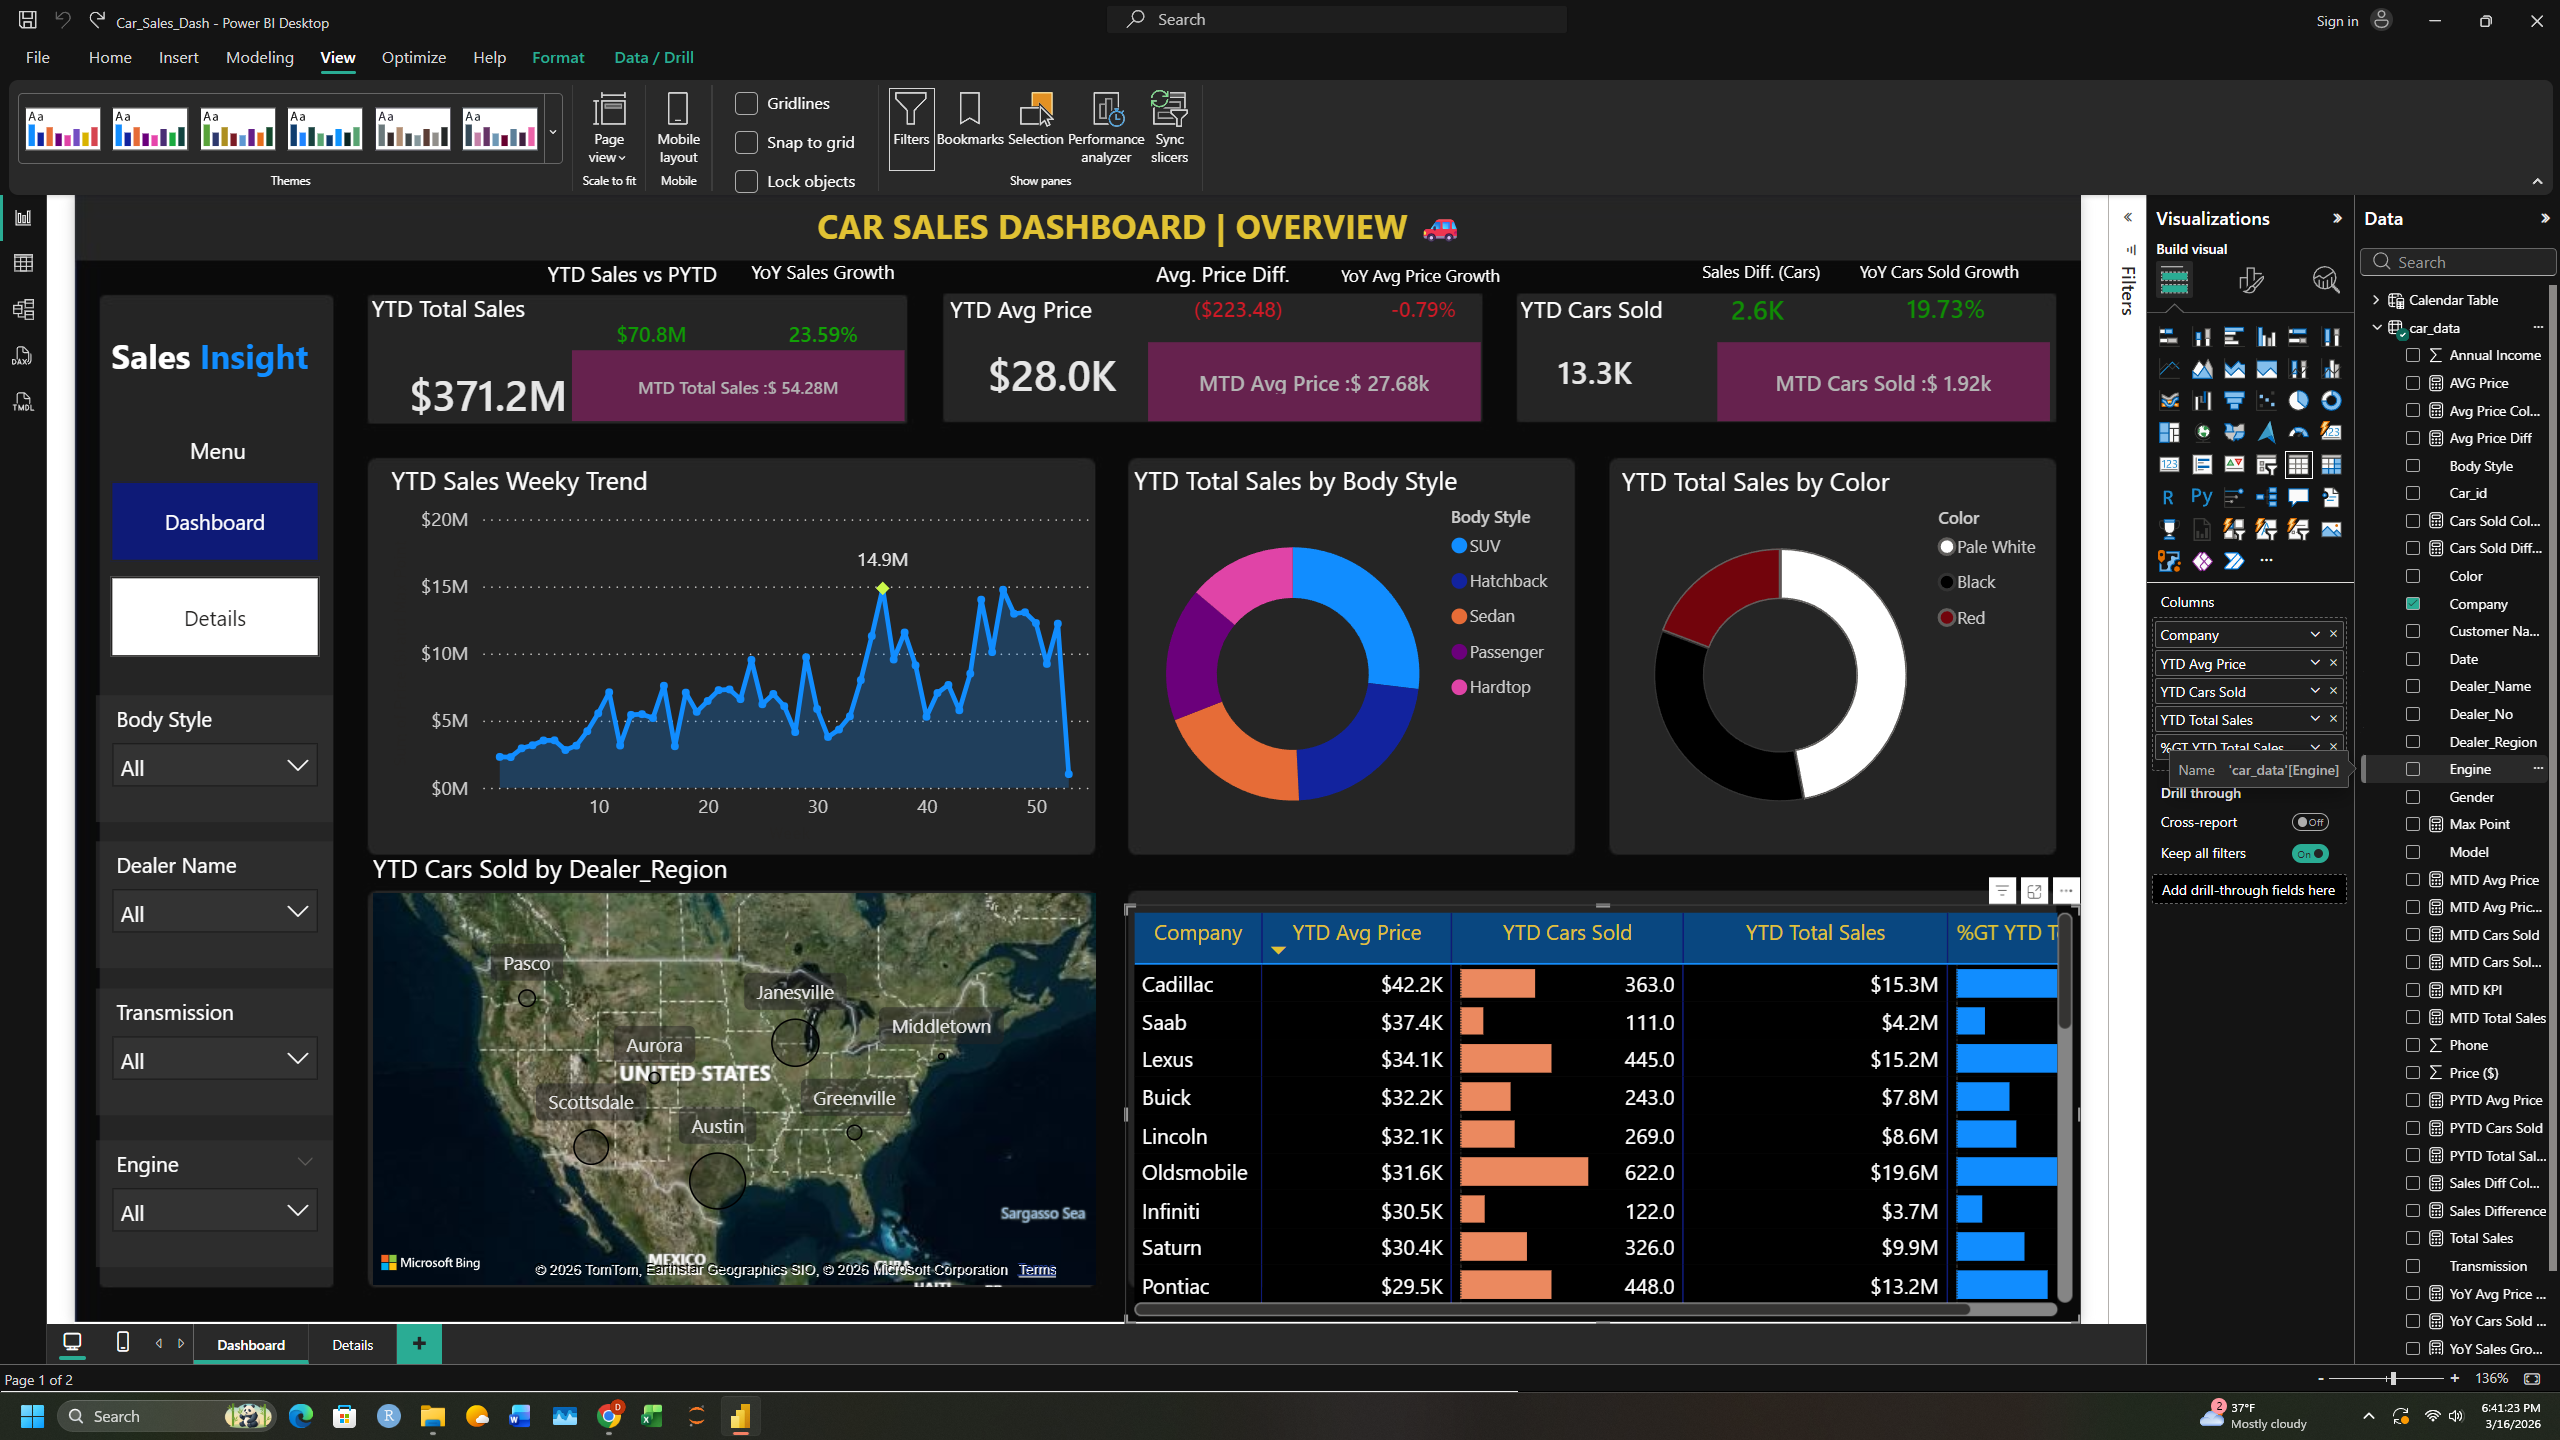

The dashboard page shown, as its layout file describes it:
{"tool":"powerbi","page":{"name":"Dashboard","canvas":[1280,720],"ordinal":0},"visuals":[{"type":"cardVisual","title":"YTD Total Sales","fields":{"Data":["car_data.YTD Total Sales"]},"box":[185,62,161,109],"z":0},{"type":"cardVisual","fields":{"Data":["car_data.Sales Difference"]},"box":[317,61,110,52],"z":1000},{"type":"cardVisual","fields":{"Data":["car_data.MTD KPI"]},"box":[318,99,212,45],"z":2000},{"type":"cardVisual","fields":{"Data":["car_data.YoY Sales Growth"]},"box":[427,62,110,49],"z":3000},{"type":"cardVisual","title":"YTD Avg Price ","fields":{"Data":["car_data.YTD Avg Price"]},"box":[554,63,149,81],"z":4000},{"type":"cardVisual","fields":{"Data":["car_data.Avg Price Diff"]},"box":[682,43,121,56],"z":5000},{"type":"cardVisual","fields":{"Data":["car_data.YoY Avg Price Growth"]},"box":[803,43,115,56],"z":6000},{"type":"cardVisual","fields":{"Data":["car_data.MTD Avg Price KPI"]},"box":[685,94,212,50],"z":7000},{"type":"textbox","box":[427,34,127,29],"z":8000},{"type":"cardVisual","title":"YTD Cars Sold","fields":{"Data":["car_data.YTD Cars Sold"]},"box":[918,63,106,78],"z":9000},{"type":"cardVisual","fields":{"Data":["car_data.Cars Sold Difference"]},"box":[1024,45,100,52],"z":10000},{"type":"textbox","box":[1034,15,100,48],"z":11000},{"type":"textbox","box":[685,35,127,29],"z":12000},{"type":"textbox","box":[803,35,116,29],"z":13000},{"type":"textbox","box":[297,35,127,29],"z":14000},{"type":"cardVisual","fields":{"Data":["car_data.YoY Cars Sold Growth"]},"box":[1134,45,120,52],"z":15000},{"type":"textbox","box":[1134,15,126,49],"z":16000},{"type":"cardVisual","fields":{"Data":["car_data.MTD Cars Sold KPI"]},"box":[1048,94,212,50],"z":17000},{"type":"areaChart","title":"YTD Sales Weeky Trend ","fields":{"Category":["Calendar Table.Week"],"Y":["Sum(car_data.Price ($))","car_data.Max Point"]},"box":[197,171,459,247],"z":18000},{"type":"donutChart","fields":{"Category":["car_data.Body Style"],"Y":["car_data.YTD Total Sales"]},"box":[671,171,283,247],"z":19000},{"type":"donutChart","fields":{"Y":["car_data.YTD Total Sales"],"Category":["car_data.Color"]},"box":[982,172,283,247],"z":20000},{"type":"map","fields":{"Category":["car_data.Dealer_Region"],"Size":["car_data.YTD Cars Sold"]},"box":[185.4,417.9,470.7,282.9],"z":21000},{"type":"tableEx","fields":{"Values":["car_data.Company","car_data.YTD Avg Price","car_data.YTD Cars Sold","car_data.YTD Total Sales","Divide(car_data.YTD Total Sales, ScopedEval(car_data.YTD Total Sales, []))"]},"box":[670.7,452.5,609.1,267.7],"z":22000},{"type":"textbox","box":[438.4,0,488.9,74.7],"z":22001},{"type":"slicer","fields":{"Values":["car_data.Body Style"]},"box":[14.1,319.2,151.5,80.8],"z":22002},{"type":"slicer","fields":{"Values":["car_data.Dealer_Name"]},"box":[14.1,412.1,151.5,80.8],"z":22003},{"type":"slicer","fields":{"Values":["car_data.Transmission"]},"box":[14.1,506.1,151.5,80.8],"z":22004},{"type":"slicer","fields":{"Values":["car_data.Engine"]},"box":[14.1,603,151.5,80.8],"z":22005},{"type":"pageNavigator","box":[23.2,182.8,133.3,112.1],"z":22006},{"type":"textbox","box":[60.6,148.5,65.7,46.5],"z":22007},{"type":"textbox","box":[14.1,82.8,151.5,40.4],"z":22008}]}

Visuals, with their boxes on the page's 1280x720 design canvas (x1, y1, x2, y2). These are canvas units, not pixel positions in the 2560x1440 screenshot, which may show the page scaled, cropped or inside an application window:
"YTD Total Sales" cardVisual: region(185, 62, 346, 171)
cardVisual - car_data.Sales Difference: region(317, 61, 427, 113)
cardVisual - car_data.MTD KPI: region(318, 99, 530, 144)
cardVisual - car_data.YoY Sales Growth: region(427, 62, 537, 111)
"YTD Avg Price " cardVisual: region(554, 63, 703, 144)
cardVisual - car_data.Avg Price Diff: region(682, 43, 803, 99)
cardVisual - car_data.YoY Avg Price Growth: region(803, 43, 918, 99)
cardVisual - car_data.MTD Avg Price KPI: region(685, 94, 897, 144)
textbox: region(427, 34, 554, 63)
"YTD Cars Sold" cardVisual: region(918, 63, 1024, 141)
cardVisual - car_data.Cars Sold Difference: region(1024, 45, 1124, 97)
textbox: region(1034, 15, 1134, 63)
textbox: region(685, 35, 812, 64)
textbox: region(803, 35, 919, 64)
textbox: region(297, 35, 424, 64)
cardVisual - car_data.YoY Cars Sold Growth: region(1134, 45, 1254, 97)
textbox: region(1134, 15, 1260, 64)
cardVisual - car_data.MTD Cars Sold KPI: region(1048, 94, 1260, 144)
"YTD Sales Weeky Trend " areaChart: region(197, 171, 656, 418)
donutChart - car_data.Body Style x car_data.YTD Total Sales: region(671, 171, 954, 418)
donutChart - car_data.YTD Total Sales x car_data.Color: region(982, 172, 1265, 419)
map - car_data.Dealer_Region x car_data.YTD Cars Sold: region(185, 418, 656, 701)
tableEx - car_data.Company x car_data.YTD Avg Price: region(671, 452, 1280, 720)
textbox: region(438, 0, 927, 75)
slicer - car_data.Body Style: region(14, 319, 166, 400)
slicer - car_data.Dealer_Name: region(14, 412, 166, 493)
slicer - car_data.Transmission: region(14, 506, 166, 587)
slicer - car_data.Engine: region(14, 603, 166, 684)
pageNavigator: region(23, 183, 156, 295)
textbox: region(61, 148, 126, 195)
textbox: region(14, 83, 166, 123)
